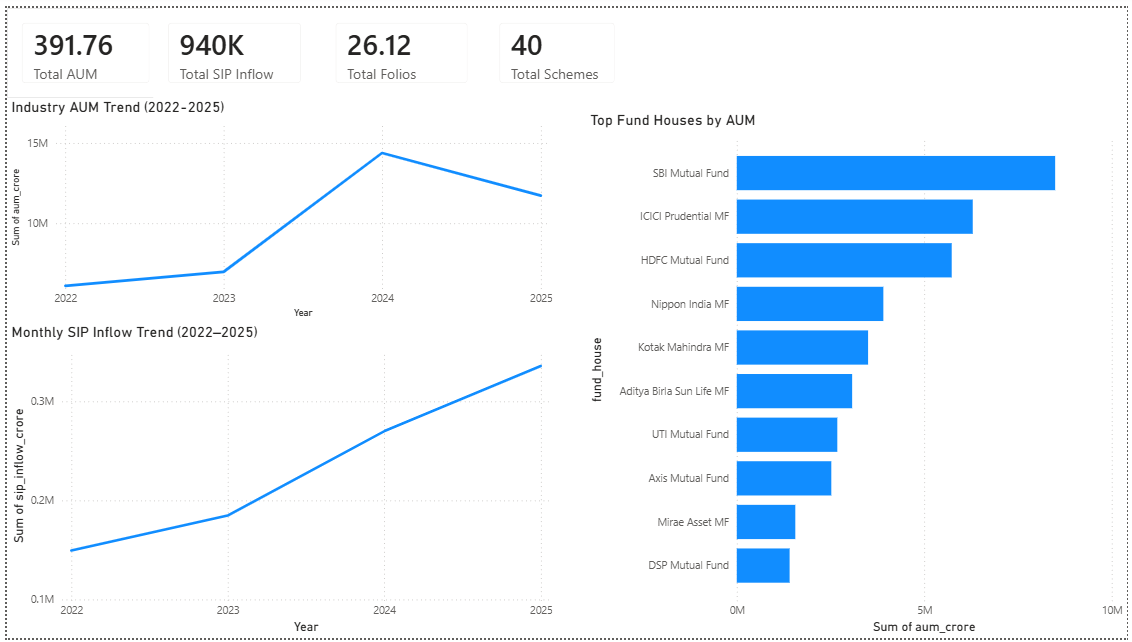

What the dashboard file says about the page in this screenshot:
{"tool":"powerbi","page":{"name":"Page 1","canvas":[1280,720],"ordinal":0},"visuals":[{"type":"cardVisual","fields":{"Data":["alpha_beta.Total AUM"]},"box":[0,0,180,103.3],"z":0},{"type":"cardVisual","fields":{"Data":["alpha_beta.Total SIP Inflow"]},"box":[166.7,0,186.7,103.3],"z":1000},{"type":"cardVisual","fields":{"Data":["alpha_beta.Total Folios"]},"box":[358.3,0,185,103.3],"z":2000},{"type":"cardVisual","fields":{"Data":["alpha_beta.Total Schemes"]},"box":[545,0,166.7,103.3],"z":3000},{"type":"lineChart","title":"Industry AUM Trend (2022-2025)","fields":{"Category":["clean_aum_by_fund_house.date.Variation.Date Hierarchy.Year","clean_aum_by_fund_house.date.Variation.Date Hierarchy.Quarter","clean_aum_by_fund_house.date.Variation.Date Hierarchy.Month","clean_aum_by_fund_house.date.Variation.Date Hierarchy.Day"],"Y":["Sum(clean_aum_by_fund_house.aum_crore)"]},"box":[0,103.3,628.3,256.7],"z":4000},{"type":"clusteredBarChart","title":"Top Fund Houses by AUM","fields":{"Category":["clean_aum_by_fund_house.fund_house"],"Y":["Sum(clean_aum_by_fund_house.aum_crore)"]},"box":[661.7,116.7,618.3,603.3],"z":5000},{"type":"lineChart","title":"Monthly SIP Inflow Trend (2022–2025)","fields":{"Y":["Sum(clean_monthly_sip_inflows.sip_inflow_crore)"],"Category":["clean_monthly_sip_inflows.month.Variation.Date Hierarchy.Year","clean_monthly_sip_inflows.month.Variation.Date Hierarchy.Quarter","clean_monthly_sip_inflows.month.Variation.Date Hierarchy.Month","clean_monthly_sip_inflows.month.Variation.Date Hierarchy.Day"]},"box":[0,360,628.3,360],"z":6000}]}

Visuals, with their boxes in screenshot pixels (x1, y1, x2, y2), scaled from the page's 1280x720 canvas onto the 1132x642 screenshot:
cardVisual - alpha_beta.Total AUM: <region>0, 0, 159, 92</region>
cardVisual - alpha_beta.Total SIP Inflow: <region>147, 0, 313, 92</region>
cardVisual - alpha_beta.Total Folios: <region>317, 0, 480, 92</region>
cardVisual - alpha_beta.Total Schemes: <region>482, 0, 629, 92</region>
"Industry AUM Trend (2022-2025)" lineChart: <region>0, 92, 556, 321</region>
"Top Fund Houses by AUM" clusteredBarChart: <region>585, 104, 1131, 641</region>
"Monthly SIP Inflow Trend (2022–2025)" lineChart: <region>0, 321, 556, 641</region>
